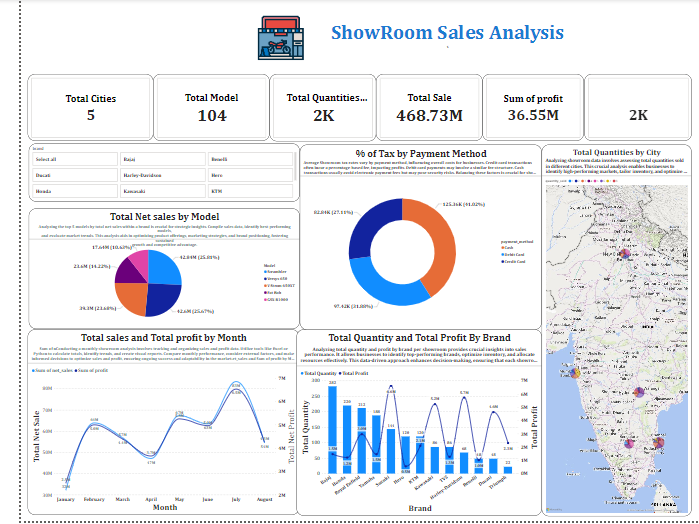

Layout of this report page (visuals, bound fields, positions):
{"tool":"powerbi","page":{"name":"DashBoard","canvas":[2750,2100],"ordinal":5},"visuals":[{"type":"pieChart","fields":{"Category":["showroom sales.model"],"Y":["Sum(showroom sales.net_sales)"]},"box":[29.8,841,1090.3,485],"z":0},{"type":"advancedSlicerVisual","fields":{"Values":["showroom sales.brand"]},"box":[29.8,579.6,1090.3,233.9],"z":1000},{"type":"lineChart","title":"Total sales and Total profit by Month","fields":{"Category":["showroom sales.date.Variation.Date Hierarchy.Month"],"Y":["Sum(showroom sales.net_sales)"],"Y2":["Sum(showroom sales.profit)"]},"box":[28.2,1331.2,1093,746.3],"z":2000},{"type":"lineStackedColumnComboChart","title":"Total Quantity and Total Profit By Brand","fields":{"Category":["showroom sales.brand"],"Y":["Sum(showroom sales.quantity_sold)"],"Y2":["Sum(showroom sales.profit)"]},"box":[1109.8,1329.4,987.2,749.8],"z":3000},{"type":"donutChart","title":"% of Tax by Payment Method","fields":{"Category":["showroom sales.payment_method"],"Y":["Avg(showroom sales.tax)"]},"box":[1121.6,583.8,973.6,745.7],"z":4000},{"type":"map","title":"Total Quantities by City","fields":{"Category":["showroom sales.city"],"Series":["showroom sales.quantity_sold"],"Size":["Sum(showroom sales.quantity_sold)"]},"box":[2095.2,583.8,602.7,1495.2],"z":5000},{"type":"cardVisual","fields":{"Data":["Count(showroom sales.city)"]},"box":[28.1,300.2,505.7,269.2],"z":6000},{"type":"cardVisual","fields":{"Data":["Count(showroom sales.model)"]},"box":[533.8,300.2,469,269.2],"z":7000},{"type":"cardVisual","fields":{"Data":["Sum(showroom sales.quantity_sold)"]},"box":[1000.7,302,428.2,270.4],"z":8000},{"type":"cardVisual","fields":{"Data":["Sum(showroom sales.net_sales)"]},"box":[1431,300.2,428.2,269.2],"z":9000},{"type":"cardVisual","fields":{"Data":["Sum(showroom sales.profit)"]},"box":[1859.2,300.2,407.8,269.2],"z":10000},{"type":"cardVisual","fields":{"Data":["Max(showroom sales.date.Variation.Date Hierarchy.Year)"]},"box":[2267.1,300.2,432.3,269.2],"z":11000},{"type":"textbox","title":"ShowRoom Sales Analysis","box":[1122.4,85.6,1190,171.3],"z":12000},{"type":"image","box":[874.5,49.6,342.6,207.3],"z":13000}]}

Visuals, with their boxes in screenshot pixels (x1, y1, x2, y2), scaled from the page's 2750x2100 canvas onto the 699x524 screenshot:
pieChart - showroom sales.model x Sum(showroom sales.net_sales): box=[8, 210, 285, 331]
advancedSlicerVisual - showroom sales.brand: box=[8, 145, 285, 203]
"Total sales and Total profit by Month" lineChart: box=[7, 332, 285, 518]
"Total Quantity and Total Profit By Brand" lineStackedColumnComboChart: box=[282, 332, 533, 519]
"% of Tax by Payment Method" donutChart: box=[285, 146, 533, 332]
"Total Quantities by City" map: box=[533, 146, 686, 519]
cardVisual - Count(showroom sales.city): box=[7, 75, 136, 142]
cardVisual - Count(showroom sales.model): box=[136, 75, 255, 142]
cardVisual - Sum(showroom sales.quantity_sold): box=[254, 75, 363, 143]
cardVisual - Sum(showroom sales.net_sales): box=[364, 75, 473, 142]
cardVisual - Sum(showroom sales.profit): box=[473, 75, 576, 142]
cardVisual - Max(showroom sales.date.Variation.Date Hierarchy.Year): box=[576, 75, 686, 142]
"ShowRoom Sales Analysis" textbox: box=[285, 21, 588, 64]
image: box=[222, 12, 309, 64]
